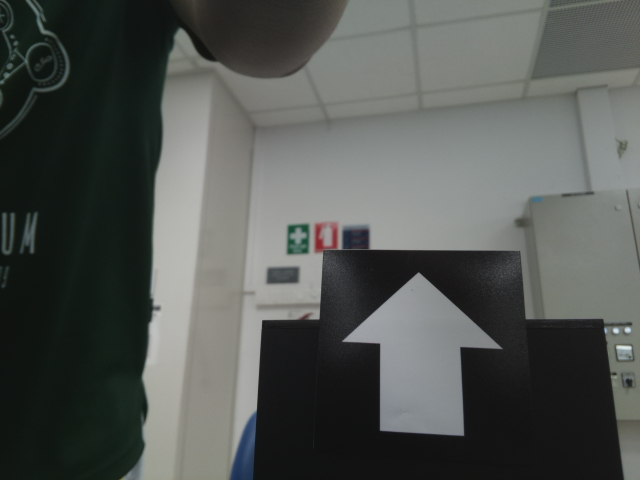up: (335, 270, 512, 447)
